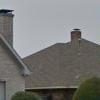Chimney: (65, 22, 90, 46)
